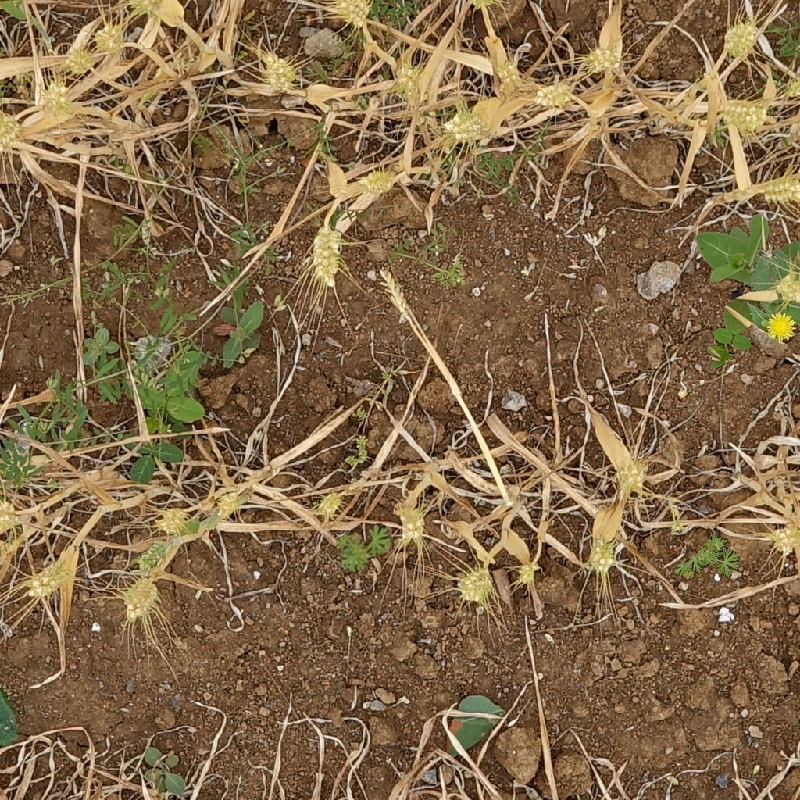spikelet: (310, 223, 343, 287), (122, 576, 159, 620), (718, 98, 766, 131), (26, 561, 68, 598), (722, 19, 758, 60), (456, 565, 494, 603), (261, 52, 296, 91), (444, 109, 484, 143), (337, 534, 370, 572), (759, 173, 799, 204), (1, 446, 33, 484), (586, 537, 617, 574), (396, 504, 426, 542), (533, 81, 573, 108), (93, 22, 124, 56), (615, 459, 645, 494), (583, 45, 618, 74), (765, 310, 797, 341), (154, 505, 188, 534), (769, 524, 800, 555), (136, 540, 167, 571), (42, 80, 71, 113), (333, 1, 371, 25), (773, 271, 799, 304), (1, 111, 21, 153), (63, 48, 95, 74), (214, 489, 243, 517), (1, 498, 20, 536), (229, 221, 256, 247), (352, 432, 371, 465)
weed: (692, 223, 800, 353), (135, 372, 210, 481), (17, 383, 128, 445), (329, 514, 400, 578), (671, 534, 741, 595), (219, 294, 268, 368), (140, 750, 190, 792), (76, 331, 120, 373), (132, 333, 171, 366), (436, 257, 466, 288), (386, 1, 420, 23)
